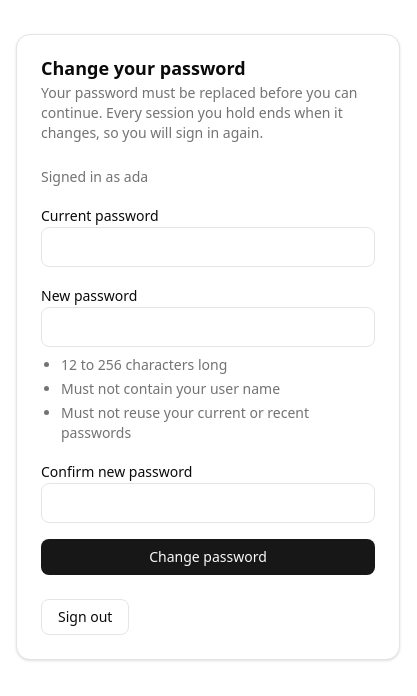
ChangePassword › shows an authorization refusal as permission denied, clears the fields and echoes neither value
Type "Current-Value-4f81" into the password field labelled "Current password".
click(208, 247); type("Current-Value-4f81")  # box x1=41 y1=227 x2=375 y2=267
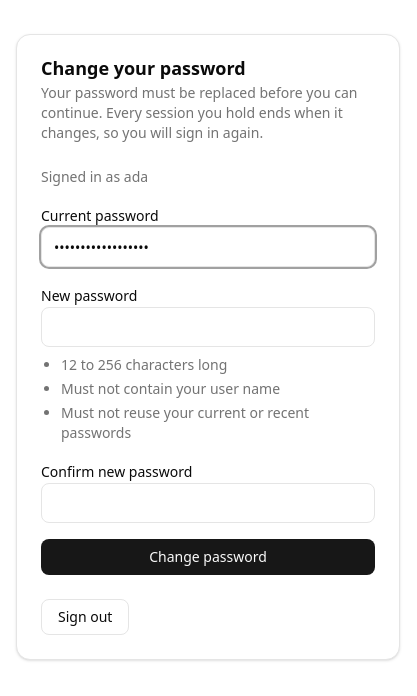
Type "Next-Value-9c2e-long" into the password field labelled "New password".
click(208, 327); type("Next-Value-9c2e-long")  # box x1=41 y1=307 x2=375 y2=347
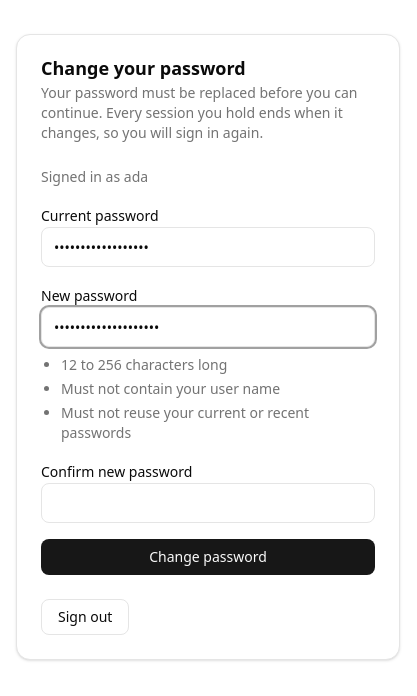
Type "Next-Value-9c2e-long" into the password field labelled "Confirm new password".
click(208, 503); type("Next-Value-9c2e-long")  # box x1=41 y1=483 x2=375 y2=523
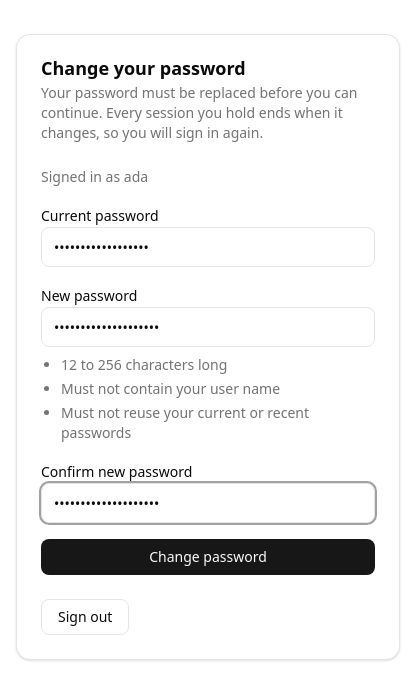
Click the button "Change password".
click(208, 557)  # box x1=41 y1=539 x2=375 y2=575
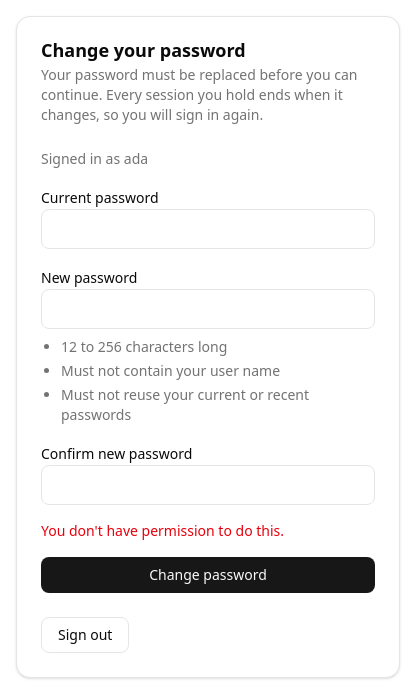
Check: the message reads "You don't have permission to do this.", box x1=41 y1=521 x2=284 y2=540
Check: the password field labelled "Current password" is empty, box x1=41 y1=209 x2=375 y2=249
Check: the password field labelled "New password" is empty, box x1=41 y1=289 x2=375 y2=329
